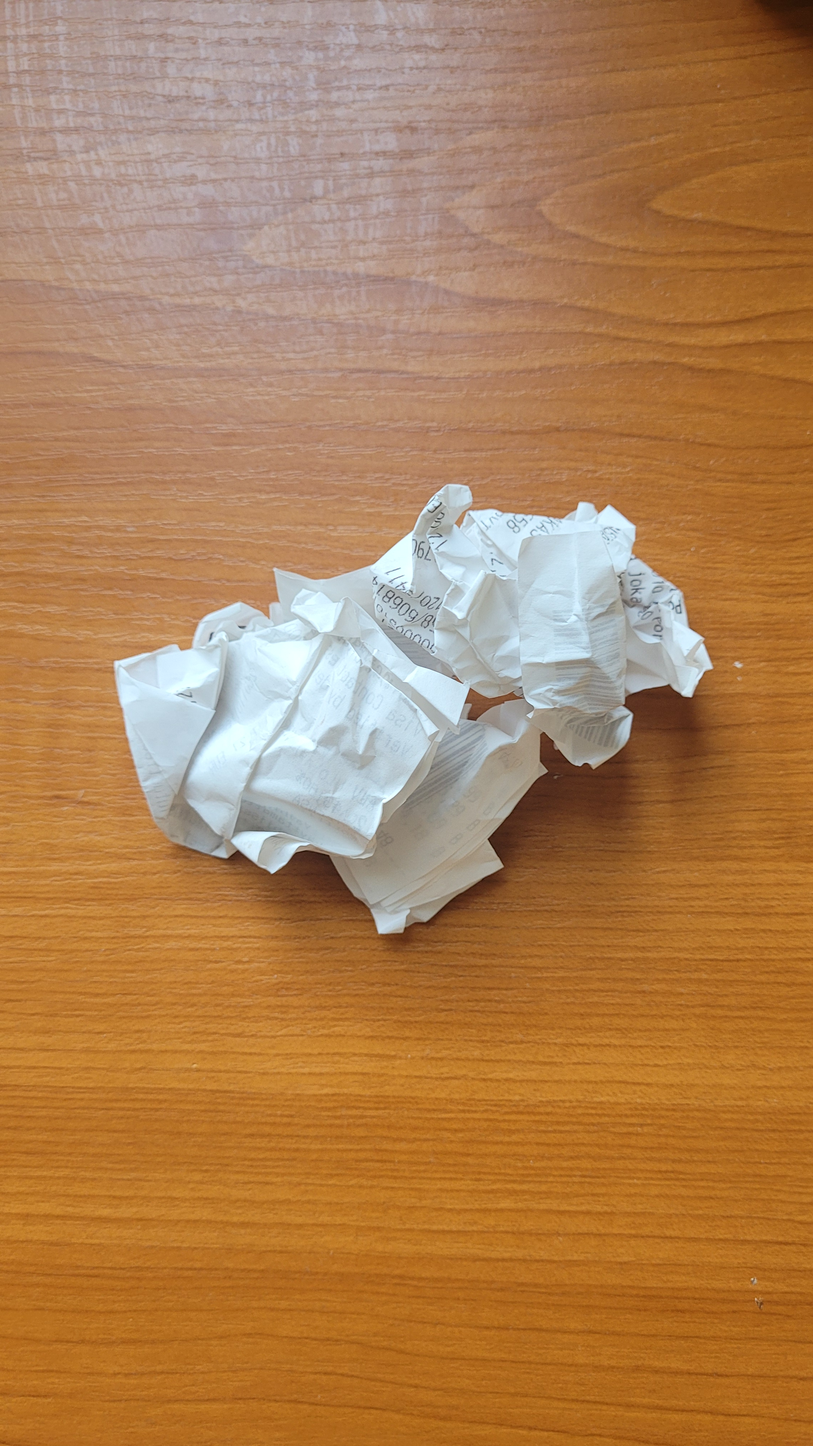paper: (109, 476, 719, 943)
